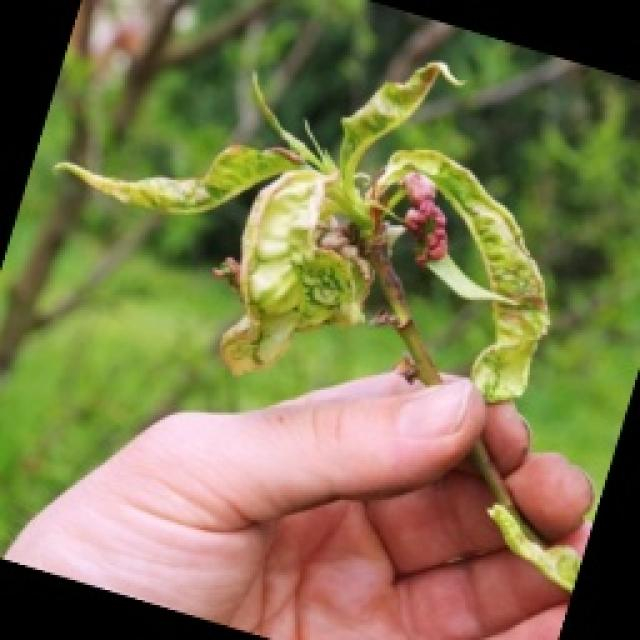peach_leaf_curl: (50, 55, 582, 593)
